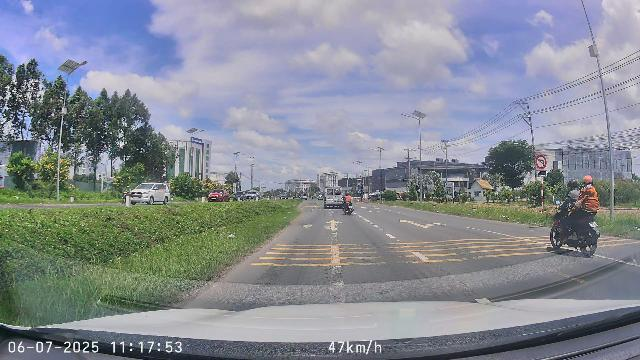123a-cam-re-trai: (535, 154, 547, 169)
